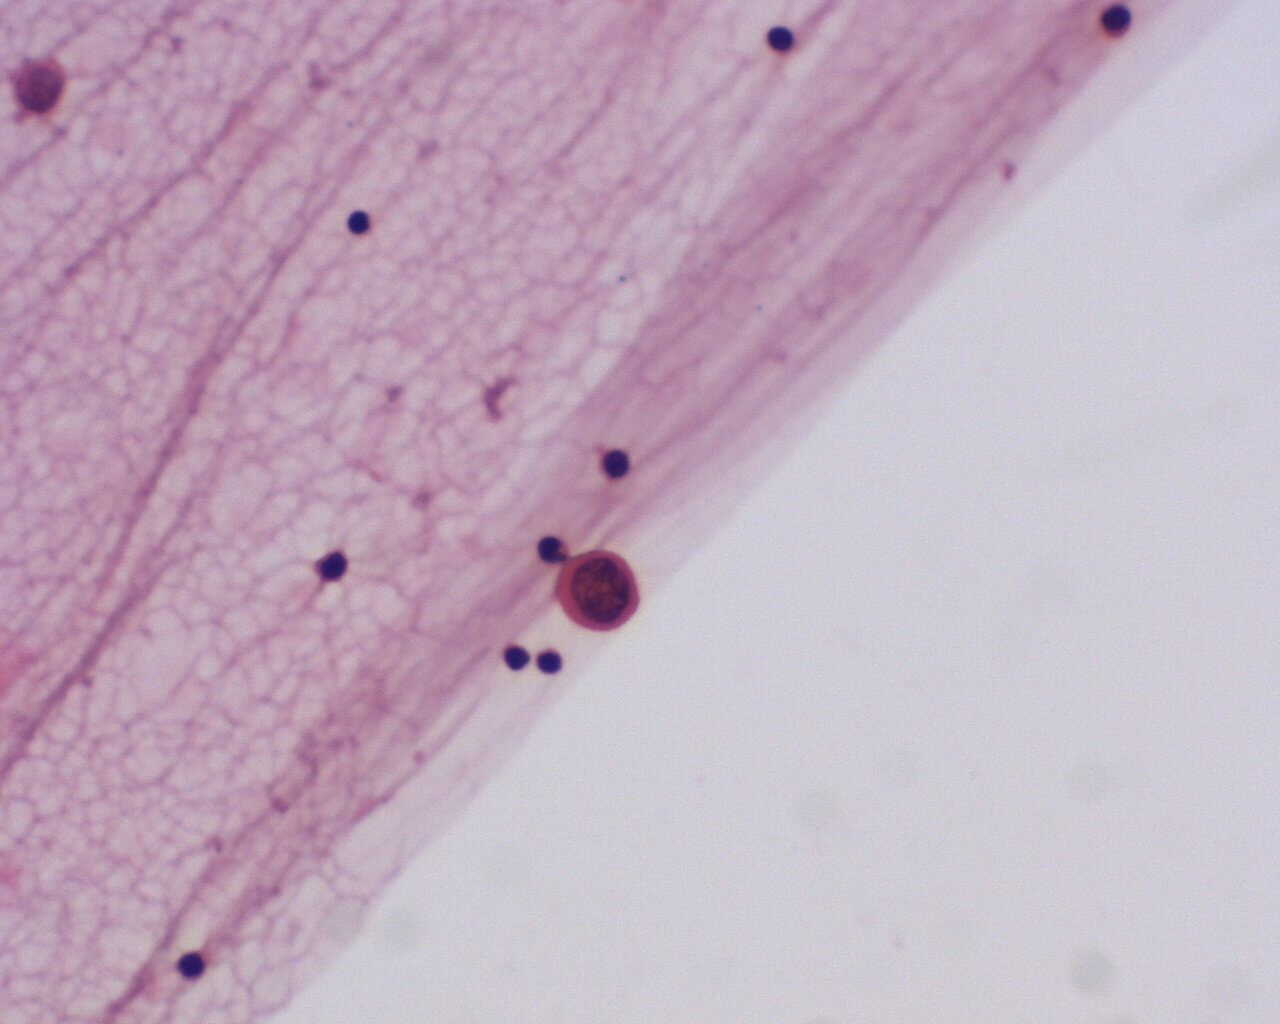ab: (554, 548, 644, 634)
lymph: (174, 944, 208, 986), (598, 450, 636, 486), (532, 643, 567, 680), (761, 23, 798, 53), (339, 205, 373, 236), (503, 643, 531, 668)
